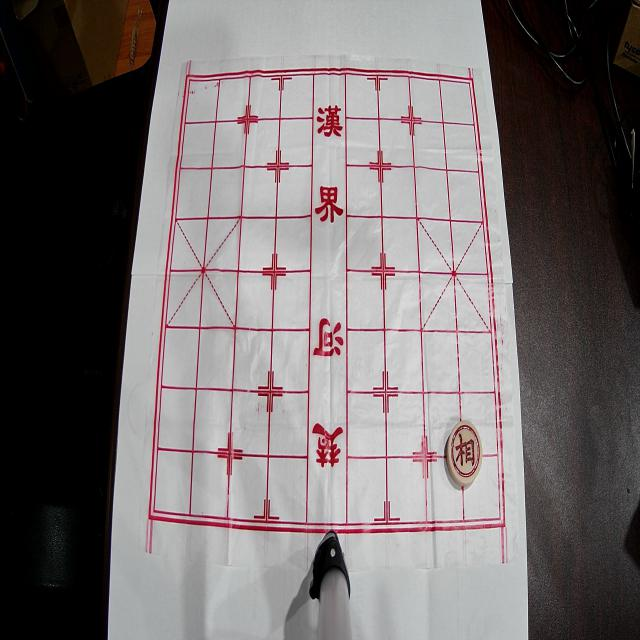red-elephant: (447, 421, 482, 486)
